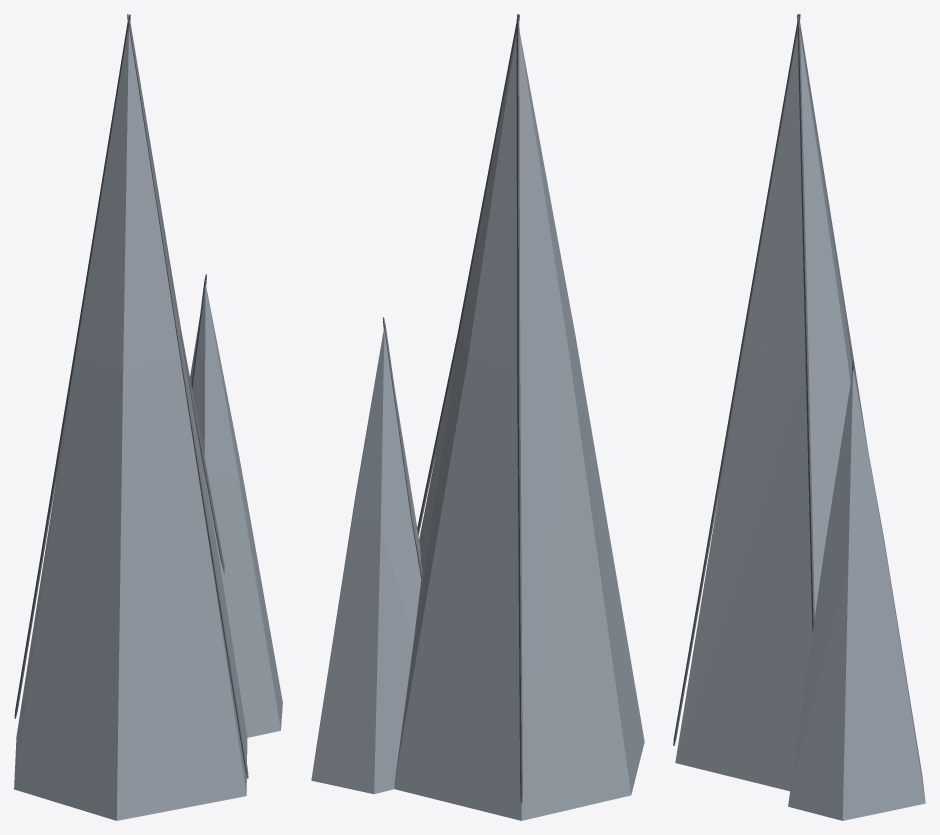
Rendered from Spire_2.fbx.
3 views of the same model, side by side, from view 1: azimuth 30°, elevation 25°; view 2: azimuth 150°, elevation 25°; view 3: azimuth 270°, elevation 25° (orthographic). The views are drawn at different scales.
Visible parts, largest first — view 1: Spire; view 2: Spire; view 3: Spire.
Part boxes in pixels (box(x1,y1,x2,y2)): Spire: box(14, 14, 282, 820); Spire: box(311, 14, 644, 820); Spire: box(673, 14, 925, 820).
Bounding box in the file's own units: 11.91 × 29.3 × 9.27.
